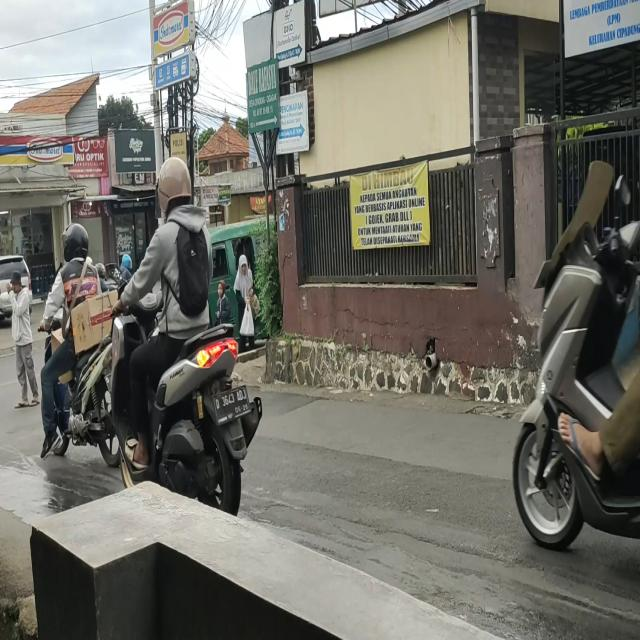helmet: (153, 156, 194, 220), (62, 222, 86, 259)
